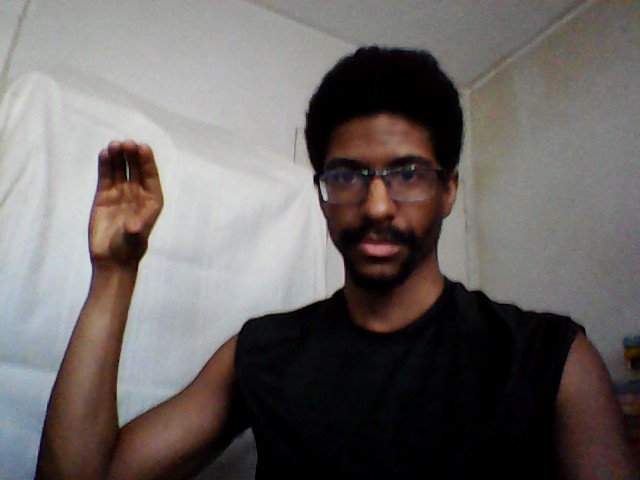c: (84, 137, 167, 273)
